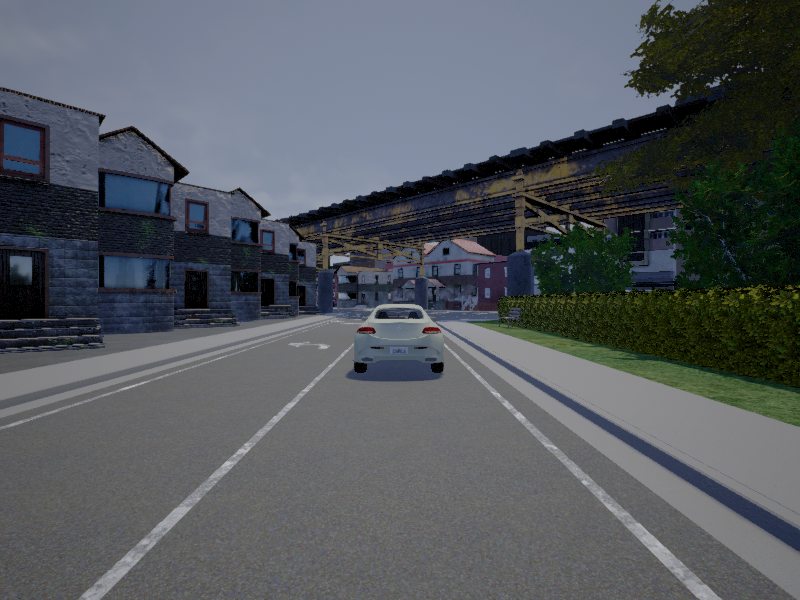Benign: (355, 303, 442, 372)
